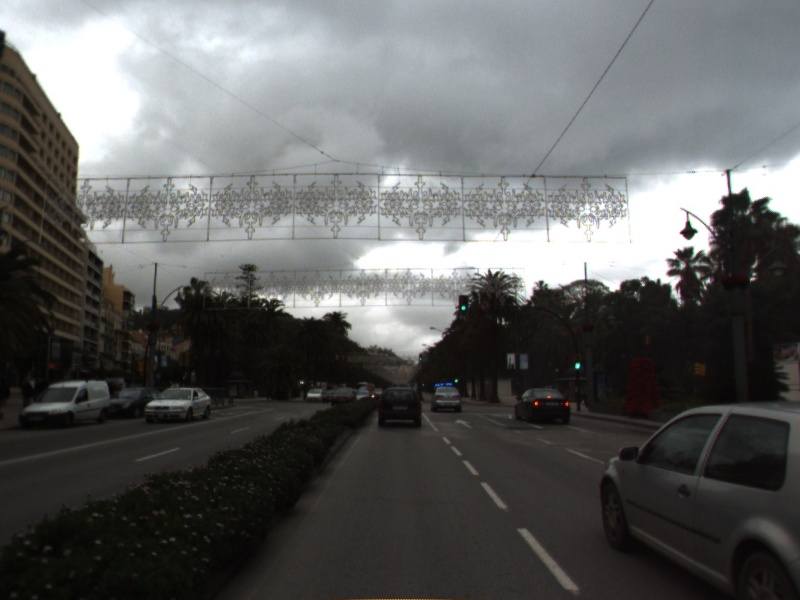STRAIGHT: (453, 417, 475, 431)
